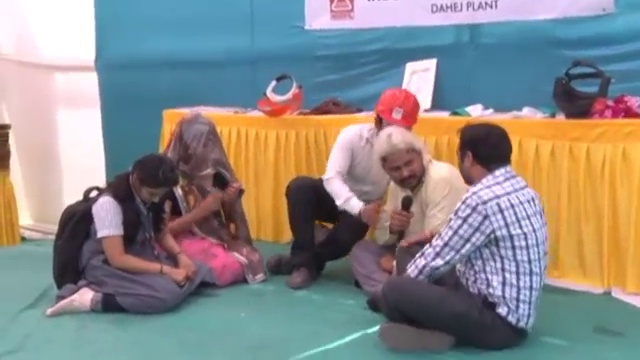helmet: (367, 89, 423, 126)
helmet_off: (453, 122, 516, 191), (371, 125, 432, 188), (168, 116, 224, 180), (118, 153, 186, 205)
person: (375, 118, 551, 353), (268, 87, 424, 285), (45, 151, 209, 316), (348, 125, 474, 294), (152, 116, 254, 286)
